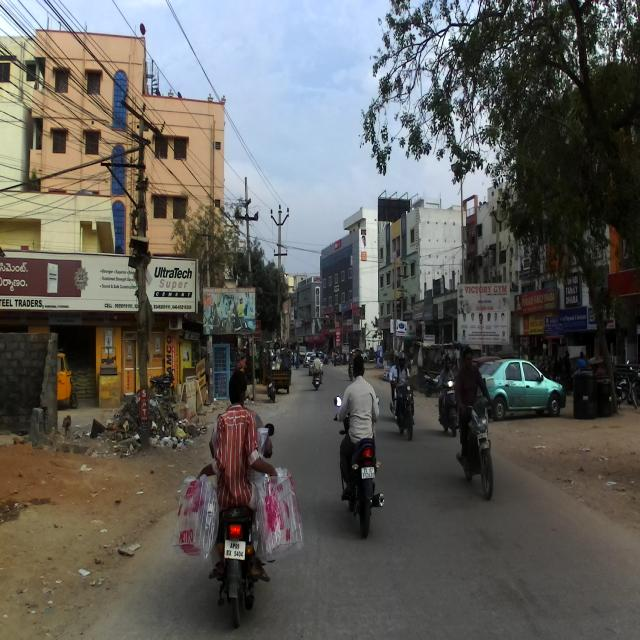electric pole ahead at: (121, 100, 166, 450)
motorcycle ahead at: (205, 496, 276, 628), (337, 435, 389, 536), (455, 400, 502, 500)
